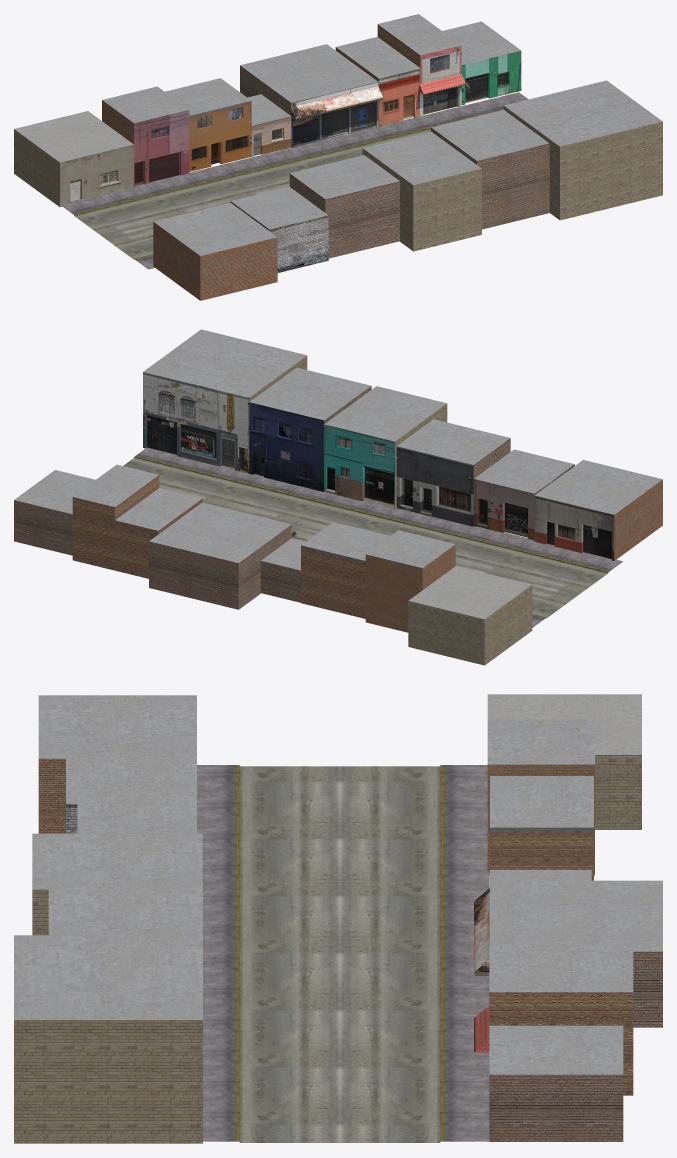
File: Set3.fbx
3 views of the same model, one above another, from view 1: azimuth 30°, elevation 25°; view 2: azimuth 150°, elevation 25°; view 3: azimuth 270°, elevation 25° (orthographic). The views are drawn at different scales.
Visible parts, largest first — view 1: buildings_13.001, Road.011, buildings_10.002, buildings_18.001, buildings_15.001, buildings_11.002, buildings_19.001, buildings_14.001, buildings_16.001, buildings_07.002, buildings_08.002, buildings_17.001 (+2 smaller); view 2: Road.011, buildings_13.001, buildings_10.002, buildings_18.001, buildings_19.001, buildings_14.001, buildings_11.002, buildings_15.001, buildings_16.001, buildings_07.002, buildings_08.002, buildings_17.001 (+2 smaller); view 3: Road.011, buildings_13.001, buildings_12.002, buildings_10.002, buildings_11.002, buildings_18.001, buildings_08.002, buildings_15.001, buildings_19.001, buildings_14.001, buildings_07.002, buildings_16.001 (+2 smaller).
Part boxes in pixels (left/top/right/bottom): buildings_13.001: left=503, top=80, right=662, bottom=220; Road.011: left=60, top=92, right=528, bottom=269; buildings_10.002: left=240, top=44, right=382, bottom=147; buildings_18.001: left=153, top=203, right=277, bottom=300; buildings_15.001: left=362, top=131, right=481, bottom=251; buildings_11.002: left=335, top=14, right=465, bottom=126; buildings_19.001: left=14, top=111, right=133, bottom=207; buildings_14.001: left=431, top=110, right=549, bottom=229; buildings_16.001: left=289, top=155, right=399, bottom=258; buildings_07.002: left=102, top=86, right=189, bottom=186; buildings_08.002: left=165, top=78, right=251, bottom=171; buildings_17.001: left=230, top=186, right=328, bottom=272; Road.011: left=123, top=447, right=622, bottom=627; buildings_13.001: left=143, top=329, right=307, bottom=473; buildings_10.002: left=149, top=502, right=296, bottom=609; buildings_18.001: left=534, top=460, right=662, bottom=560; buildings_19.001: left=408, top=566, right=532, bottom=665; buildings_14.001: left=249, top=367, right=371, bottom=491; buildings_11.002: left=72, top=464, right=202, bottom=578; buildings_15.001: left=324, top=386, right=447, bottom=509; buildings_16.001: left=396, top=419, right=510, bottom=526; buildings_07.002: left=365, top=530, right=455, bottom=632; buildings_08.002: left=301, top=522, right=390, bottom=618; buildings_17.001: left=473, top=449, right=574, bottom=540; Road.011: left=197, top=765, right=489, bottom=1142; buildings_13.001: left=14, top=935, right=202, bottom=1143; buildings_12.002: left=489, top=1025, right=623, bottom=1141; buildings_10.002: left=474, top=880, right=662, bottom=1027; buildings_11.002: left=474, top=945, right=633, bottom=1095; buildings_18.001: left=38, top=695, right=196, bottom=833; buildings_08.002: left=490, top=776, right=593, bottom=880; buildings_15.001: left=32, top=833, right=202, bottom=935; buildings_19.001: left=487, top=694, right=641, bottom=829; buildings_14.001: left=48, top=883, right=202, bottom=935; buildings_07.002: left=487, top=719, right=594, bottom=875; buildings_16.001: left=77, top=781, right=196, bottom=833.
Size of the model in its own units: 10.99 by 7.96 by 1.73.
Materials: 22 (22 with a texture image).
